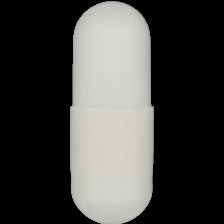53746-101: (0, 0, 224, 224)
